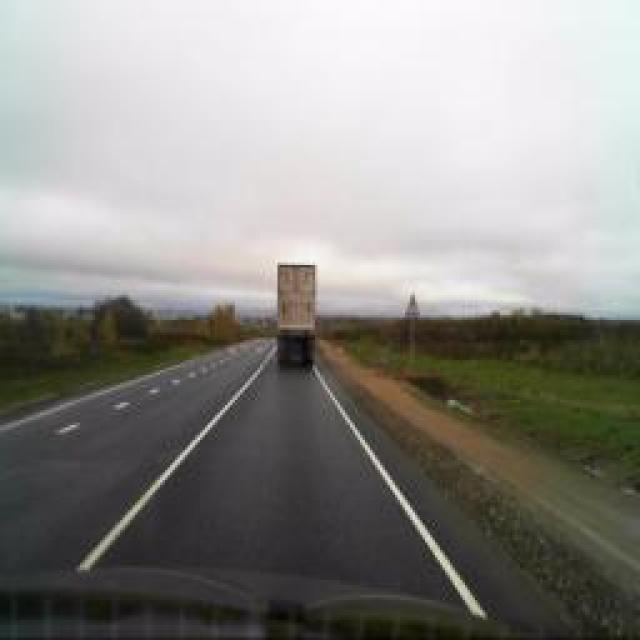sign: (405, 293, 420, 315)
